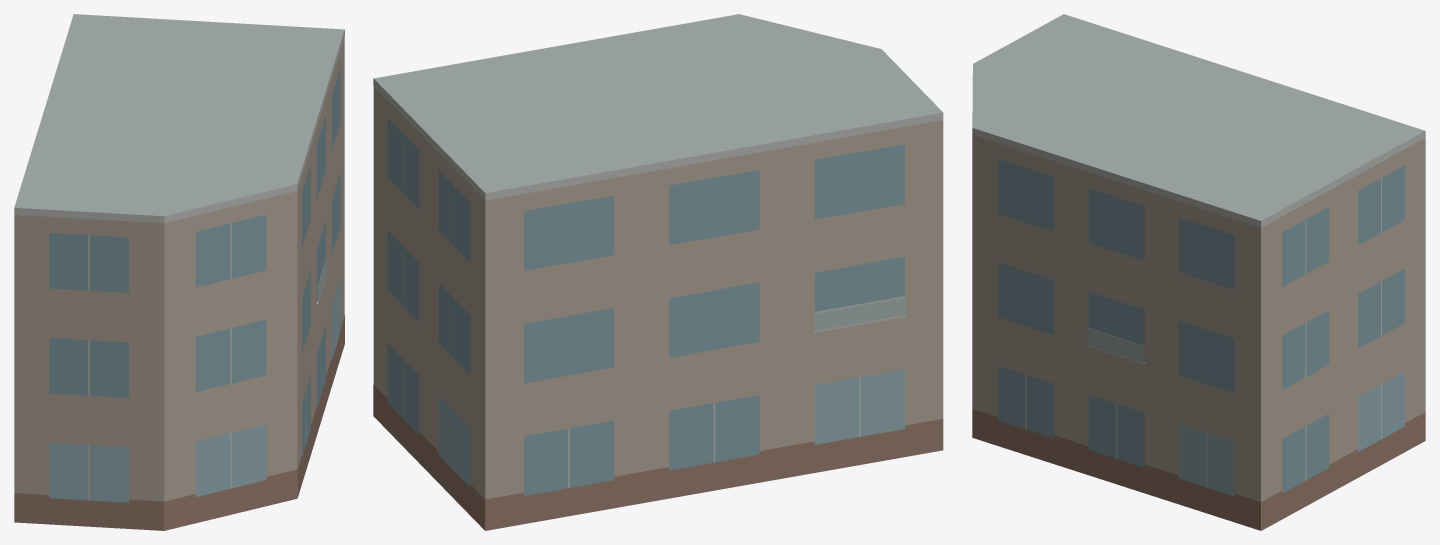
File: survey-upis-32931562.glb
3 views of the same model, side by side, from view 1: azimuth 30°, elevation 25°; view 2: azimuth 150°, elevation 25°; view 3: azimuth 270°, elevation 25° (orthographic). The views are drawn at different scales.
Parts seen in each view (by area): view 1: survey-upis-32931562.tmp; view 2: survey-upis-32931562.tmp; view 3: survey-upis-32931562.tmp.
Part boxes in pixels (box(x1,y1,x2,y2)): survey-upis-32931562.tmp: box(14, 14, 344, 530); survey-upis-32931562.tmp: box(373, 14, 943, 530); survey-upis-32931562.tmp: box(972, 14, 1425, 530).
Size of the model in its own units: 15.77 by 11 by 14.59.
